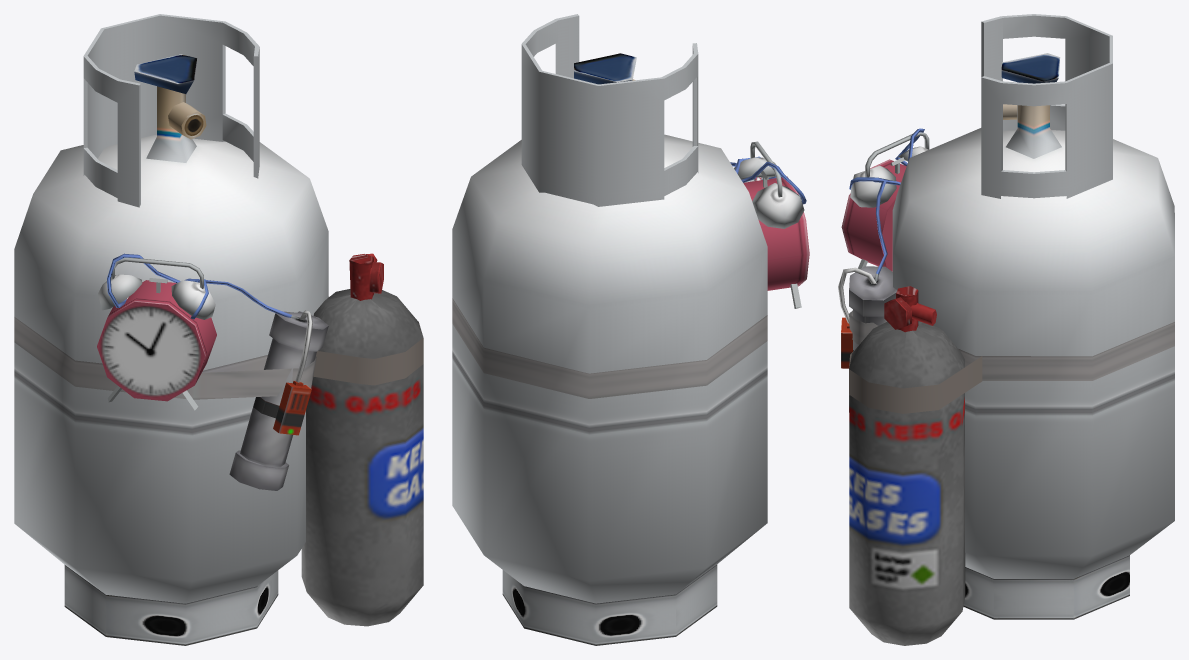
Rendered from OxyPropaneBombTimer_Mesh.fbx.
3 views of the same model, side by side, from view 1: azimuth 30°, elevation 25°; view 2: azimuth 150°, elevation 25°; view 3: azimuth 270°, elevation 25° (orthographic). The views are drawn at different scales.
Parts seen in each view (by area): view 1: OxyPropaneTankBombTimer; view 2: OxyPropaneTankBombTimer; view 3: OxyPropaneTankBombTimer.
Boxes of the visible parts, left/top/right/bottom form: OxyPropaneTankBombTimer: left=14, top=14, right=423, bottom=645; OxyPropaneTankBombTimer: left=452, top=14, right=809, bottom=645; OxyPropaneTankBombTimer: left=838, top=14, right=1174, bottom=645.
Size of the model in its own units: 68.17 by 114 by 65.3.
